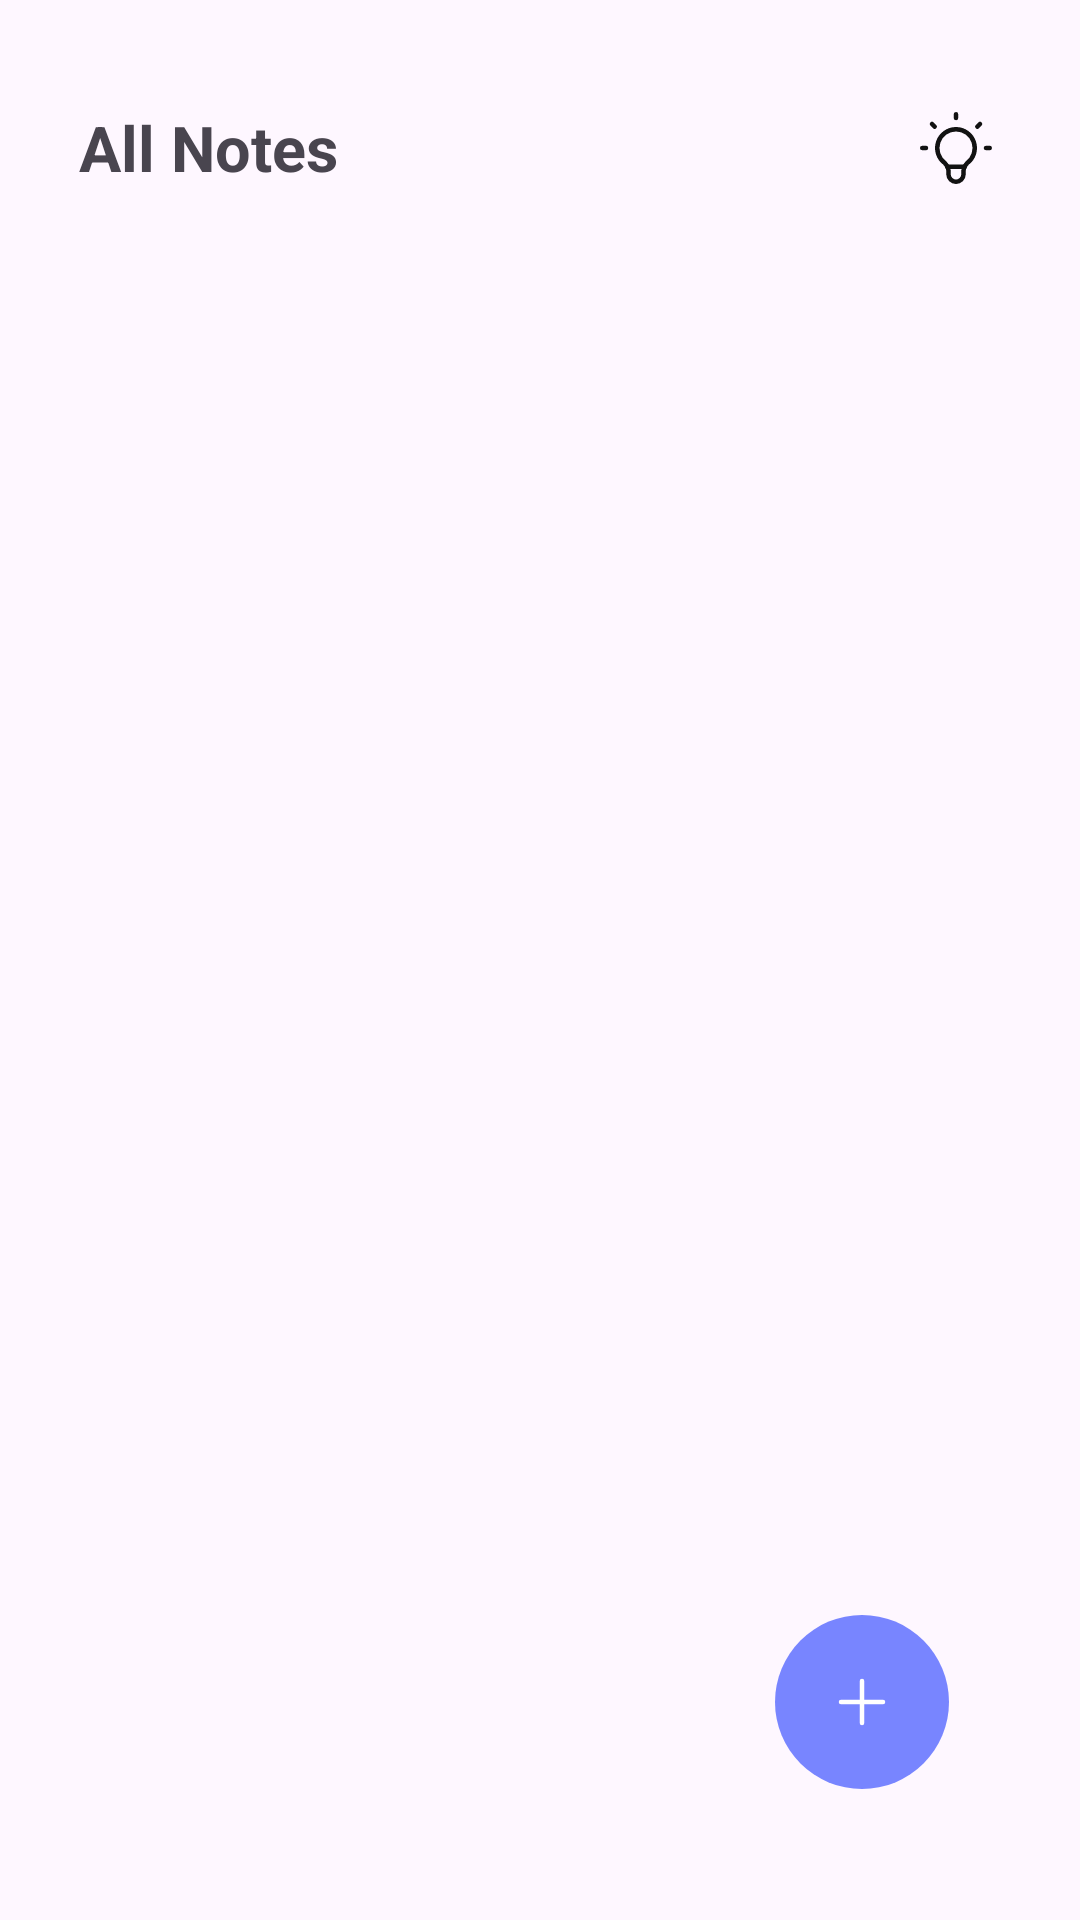

Icon bounding boxes for this 1080 x 1920 phone screenshot, format (x1, y1, x2, y2):
add note: (775, 1615, 949, 1789)
idea: (920, 112, 992, 184)
